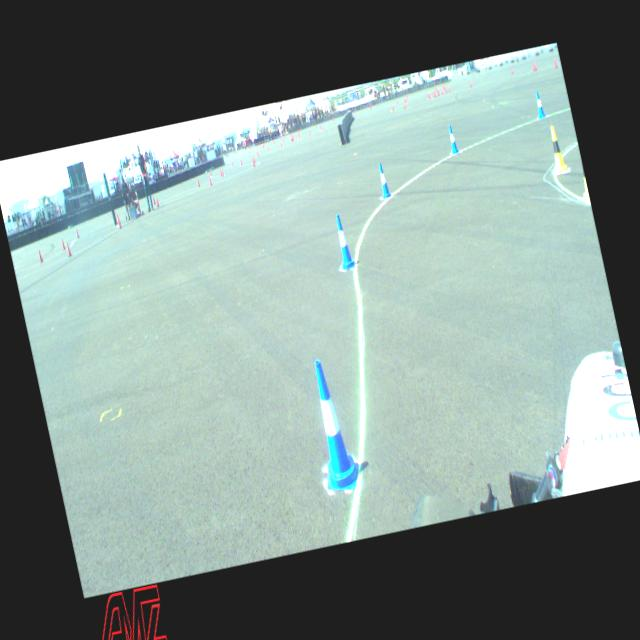blue_cone: (300, 355, 363, 495), (331, 212, 356, 270), (375, 162, 391, 198), (446, 124, 460, 155), (534, 90, 546, 118)
unknown_cone: (115, 215, 122, 228), (65, 242, 71, 256), (37, 249, 43, 262), (552, 55, 558, 68), (60, 238, 66, 250), (74, 227, 80, 238), (154, 196, 159, 207), (509, 65, 514, 74), (208, 176, 212, 186), (196, 178, 200, 188), (252, 154, 256, 164), (152, 194, 156, 204), (532, 60, 536, 70), (218, 167, 222, 176), (533, 60, 537, 69), (251, 158, 255, 166), (256, 149, 259, 158), (220, 168, 223, 176), (230, 159, 233, 167), (209, 169, 212, 176), (240, 157, 242, 165)
yellow_cone: (544, 124, 568, 174), (576, 162, 590, 204)
